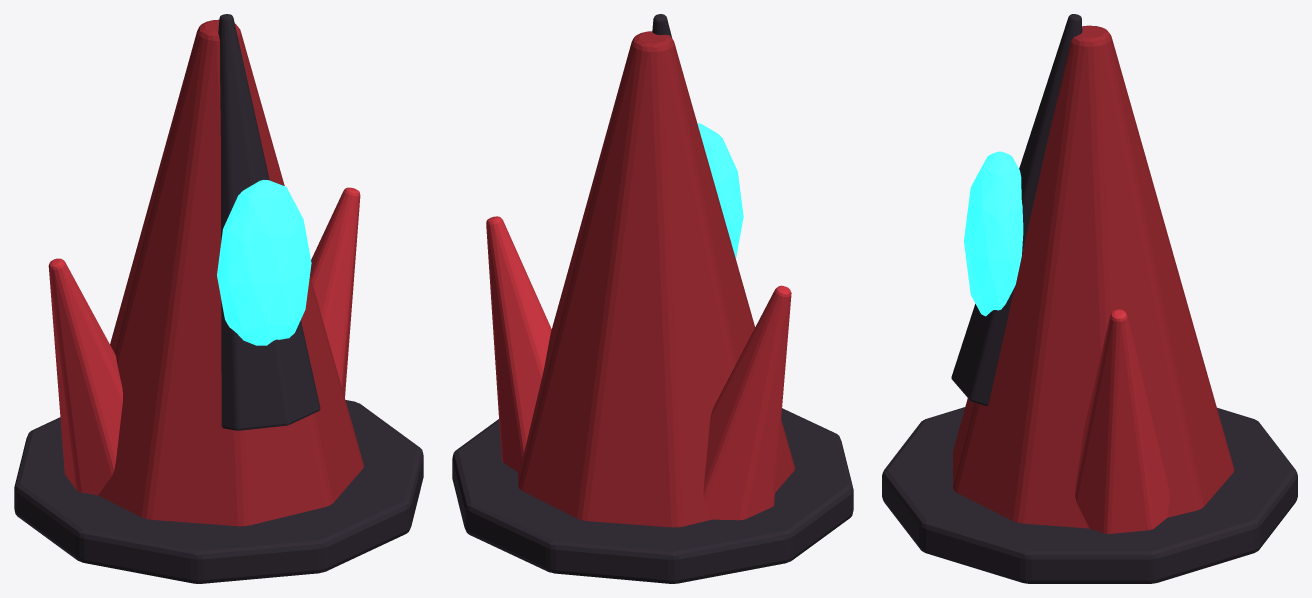
File: alien_spire.glb
3 renders of one model, left to right at view 1: azimuth 30°, elevation 25°; view 2: azimuth 150°, elevation 25°; view 3: azimuth 270°, elevation 25°, orthographic. The views are drawn at different scales.
Parts seen in each view (by area): view 1: Spire, Foundation, InnerBlade, Energy, Flank, Flank.001; view 2: Spire, Foundation, Flank, Flank.001, Energy; view 3: Spire, Foundation, Flank.001, Energy, InnerBlade.
Boxes of the visible parts, bbox=[...] form: Spire: bbox=[98, 19, 363, 526]; Foundation: bbox=[14, 400, 423, 583]; InnerBlade: bbox=[218, 14, 320, 430]; Energy: bbox=[217, 180, 311, 345]; Flank: bbox=[48, 258, 122, 495]; Flank.001: bbox=[310, 187, 360, 397]; Spire: bbox=[518, 31, 794, 527]; Foundation: bbox=[452, 408, 853, 583]; Flank: bbox=[703, 285, 791, 520]; Flank.001: bbox=[486, 216, 551, 471]; Energy: bbox=[697, 123, 743, 258]; Spire: bbox=[953, 25, 1234, 528]; Foundation: bbox=[882, 407, 1297, 583]; Flank.001: bbox=[1075, 309, 1169, 533]; Energy: bbox=[964, 151, 1023, 316]; InnerBlade: bbox=[951, 14, 1082, 405].
Bounding box in the file's own units: 1.1 × 1.49 × 1.15.
